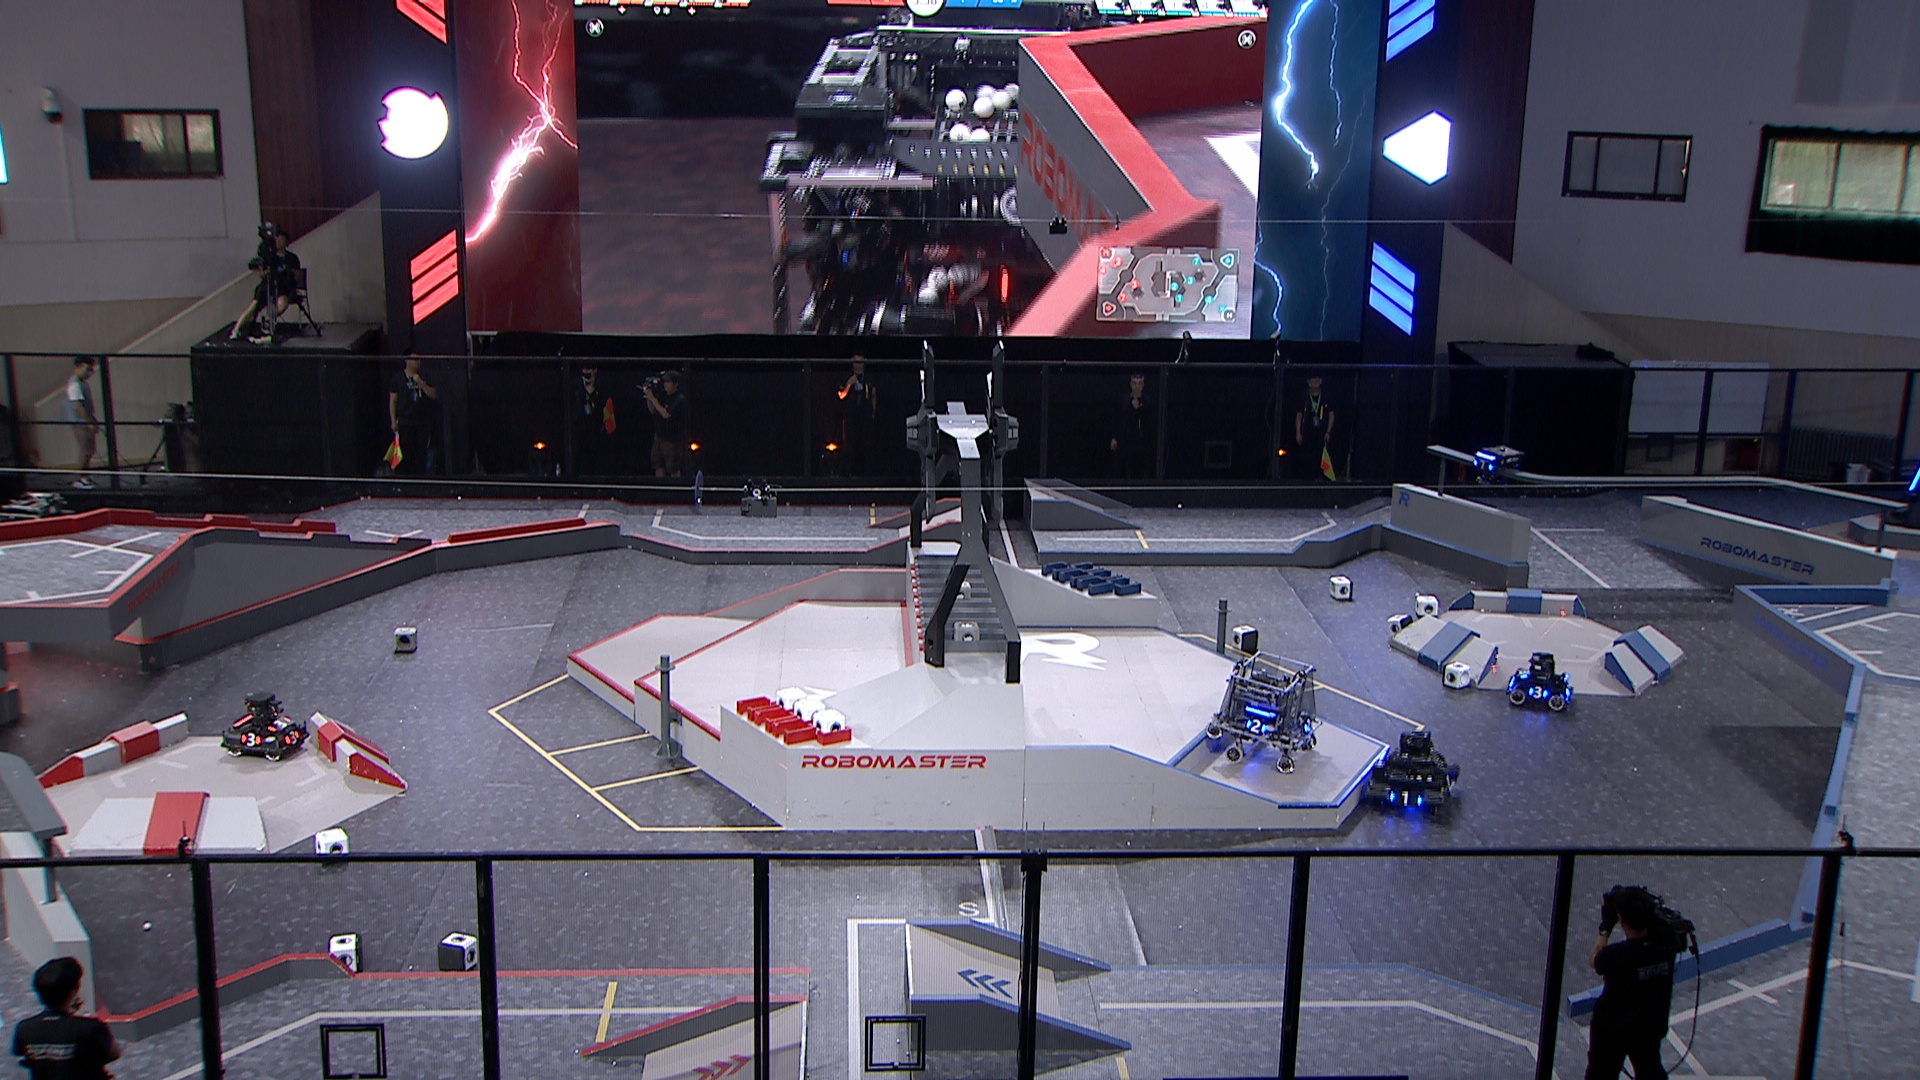armor: (1387, 790, 1424, 808), (1244, 717, 1269, 737), (266, 716, 291, 733), (1441, 771, 1457, 796), (240, 732, 262, 749), (1528, 684, 1549, 702), (1474, 458, 1495, 473), (282, 731, 302, 746), (1908, 469, 1920, 495), (1304, 717, 1315, 735)
base: (1882, 452, 1920, 535)
car: (1207, 650, 1325, 773), (1366, 731, 1462, 815), (220, 692, 311, 764), (1506, 654, 1575, 713)
ignore: (760, 20, 1083, 339)
watcher: (1474, 443, 1524, 489)
